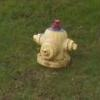Hydrant: (26, 14, 83, 76)
